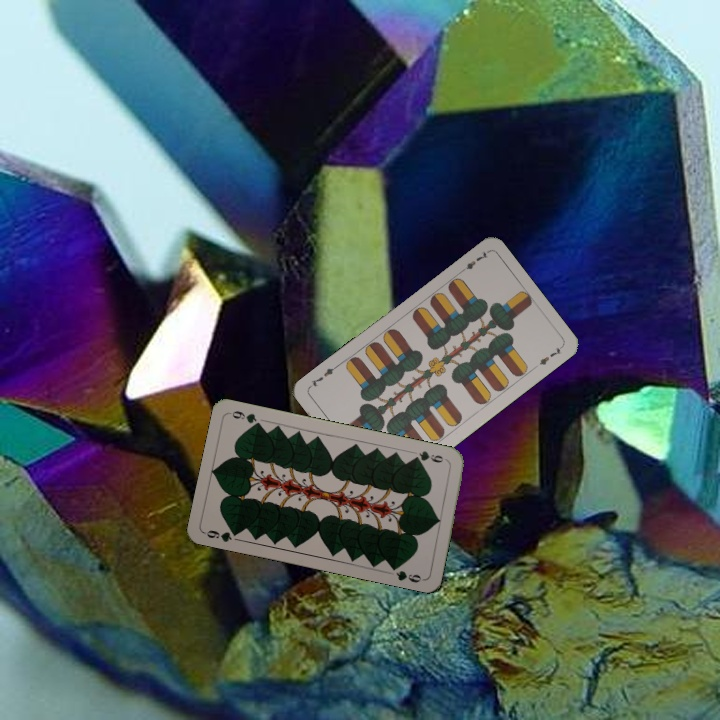E7: (455, 247, 491, 276)
G9: (201, 526, 242, 545), (410, 447, 451, 465)
